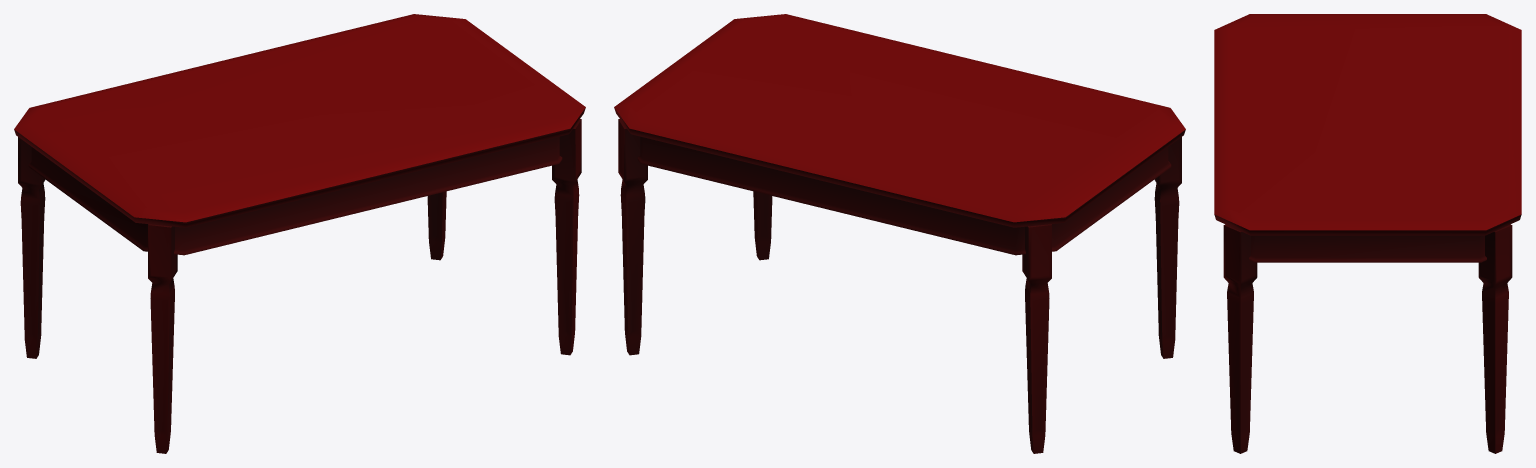
Rendered from TraditionalWoodTable003.glb.
3 renders of one model, left to right at view 1: azimuth 30°, elevation 25°; view 2: azimuth 150°, elevation 25°; view 3: azimuth 270°, elevation 25°, orthographic.
Visible parts, largest first — view 1: TraditionalWoodTable003; view 2: TraditionalWoodTable003; view 3: TraditionalWoodTable003.
Part boxes in pixels (x1=…): TraditionalWoodTable003: x1=14, y1=14, x2=585, y2=453; TraditionalWoodTable003: x1=614, y1=14, x2=1185, y2=453; TraditionalWoodTable003: x1=1214, y1=14, x2=1521, y2=453.
Bounding box in the file's own units: 5.49 × 2.79 × 3.29.
